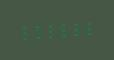five: (17, 22, 29, 41)
six: (57, 20, 69, 39), (83, 18, 95, 37)
three: (44, 20, 56, 40), (70, 19, 82, 38)
zero: (30, 21, 42, 40)
